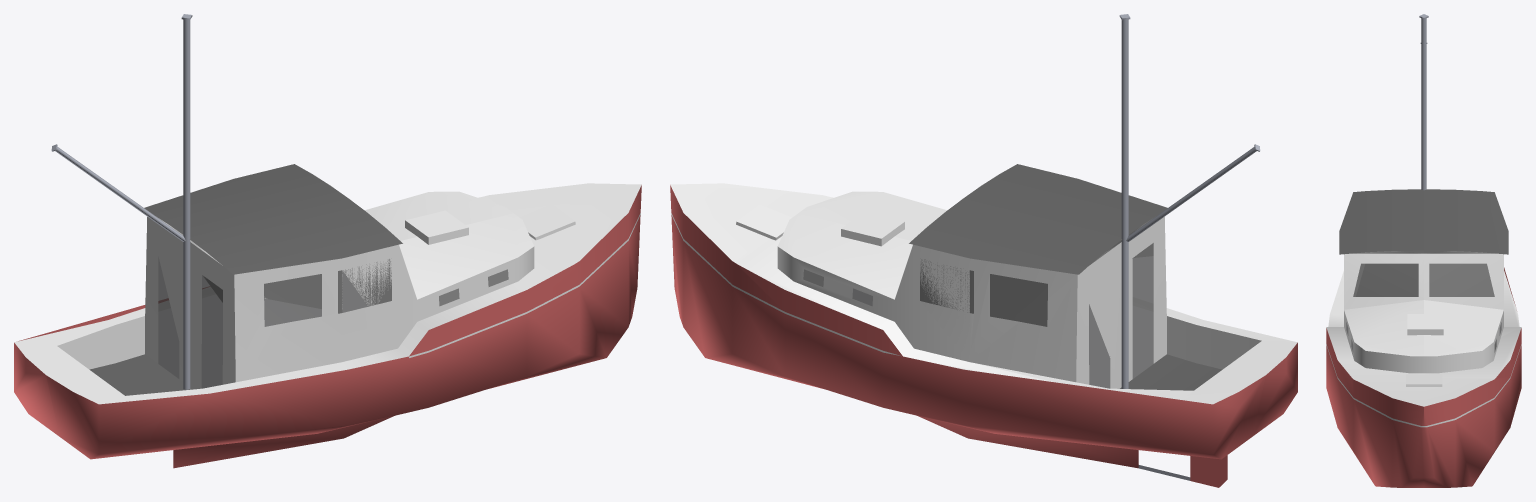
3 renders of one model, left to right at view 1: azimuth 30°, elevation 25°; view 2: azimuth 150°, elevation 25°; view 3: azimuth 270°, elevation 25°, orthographic. The views are drawn at different scales.
Visible parts, largest first — view 1: Mesh2 Boat_Half2 Model, Mesh1 Boat_Half1 Model, Mesh7 Boat_Antena1 Model, Mesh3 Boat_Hatch1 Model, Mesh4 Boat_Hatch2 Model, Mesh8 Boat_Antena1 Model; view 2: Mesh1 Boat_Half1 Model, Mesh2 Boat_Half2 Model, Mesh7 Boat_Antena1 Model, Mesh3 Boat_Hatch1 Model, Mesh9 Rudder1 Model, Mesh4 Boat_Hatch2 Model, Mesh8 Boat_Antena1 Model; view 3: Mesh2 Boat_Half2 Model, Mesh1 Boat_Half1 Model, Mesh7 Boat_Antena1 Model, Mesh3 Boat_Hatch1 Model, Mesh4 Boat_Hatch2 Model.
Boxes of the visible parts, x1,y1,x2,y2 form: Mesh2 Boat_Half2 Model: (46, 184, 641, 468); Mesh1 Boat_Half1 Model: (14, 164, 640, 436); Mesh7 Boat_Antena1 Model: (183, 19, 190, 389); Mesh3 Boat_Hatch1 Model: (405, 210, 468, 244); Mesh4 Boat_Hatch2 Model: (520, 204, 575, 240); Mesh8 Boat_Antena1 Model: (55, 147, 185, 241); Mesh1 Boat_Half1 Model: (670, 184, 1265, 468); Mesh2 Boat_Half2 Model: (671, 164, 1297, 436); Mesh7 Boat_Antena1 Model: (1121, 19, 1128, 388); Mesh3 Boat_Hatch1 Model: (841, 212, 904, 246); Mesh9 Rudder1 Model: (1138, 455, 1227, 487); Mesh4 Boat_Hatch2 Model: (736, 204, 791, 240); Mesh8 Boat_Antena1 Model: (1126, 147, 1256, 241); Mesh2 Boat_Half2 Model: (1326, 189, 1423, 487); Mesh1 Boat_Half1 Model: (1424, 189, 1521, 487); Mesh7 Boat_Antena1 Model: (1421, 18, 1426, 190); Mesh3 Boat_Hatch1 Model: (1407, 314, 1443, 335); Mesh4 Boat_Hatch2 Model: (1406, 374, 1442, 386).
Bounding box in the file's own units: 339 × 250 × 124.
